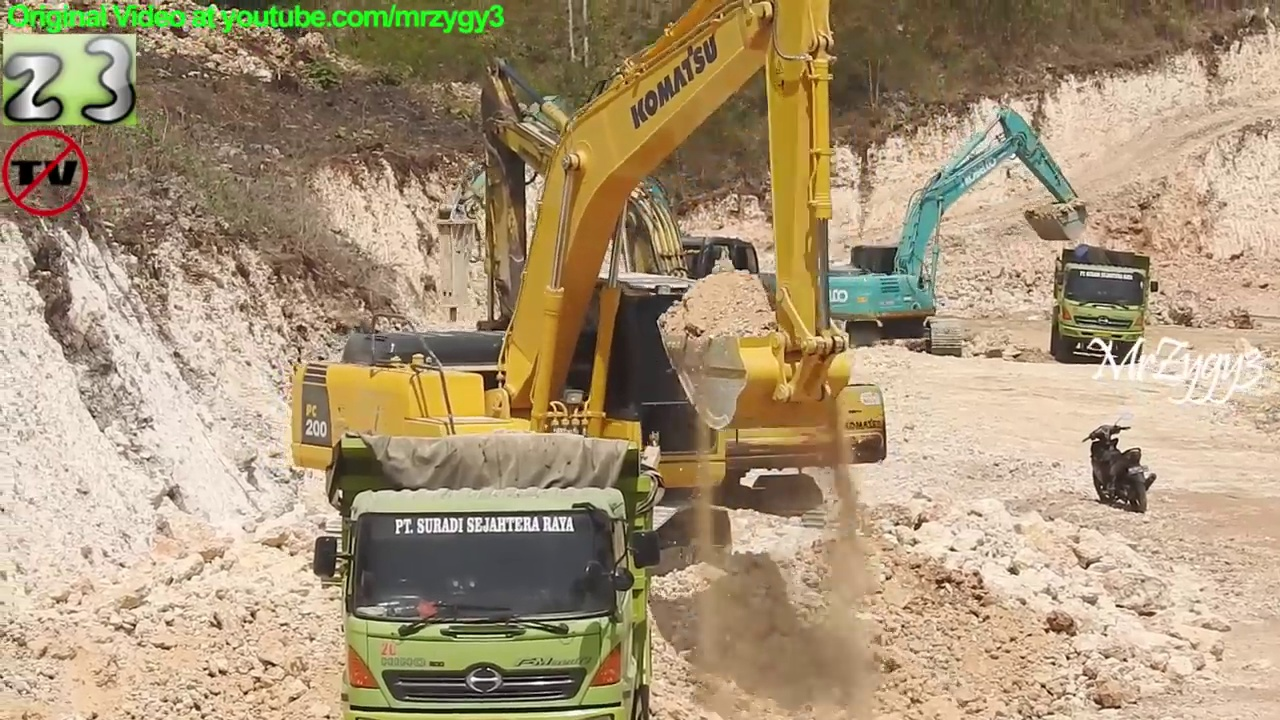excavator: (281, 1, 864, 603), (462, 48, 896, 551), (427, 82, 810, 427), (799, 99, 1095, 364)
truck: (310, 431, 670, 720), (1048, 240, 1161, 368)
